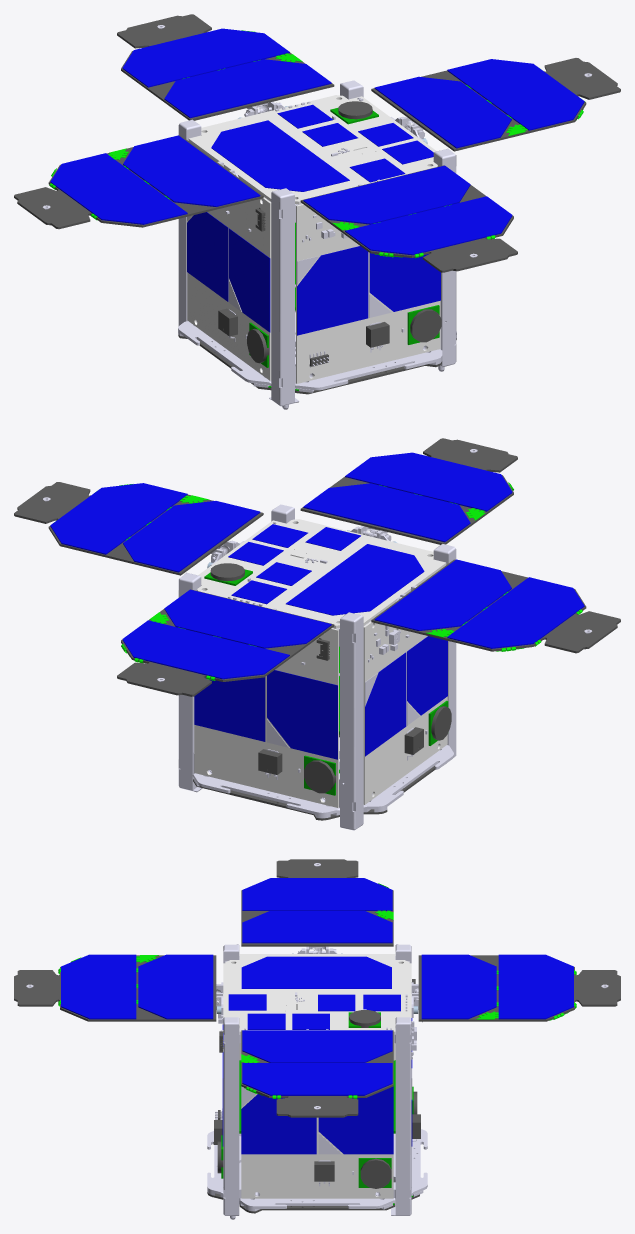
The model's file is cubesat.glb.
3 renders of one model, top to bottom at view 1: azimuth 30°, elevation 25°; view 2: azimuth 150°, elevation 25°; view 3: azimuth 270°, elevation 25°, orthographic. The views are drawn at different scales.
Visible parts, largest first — view 1: HybridBody.1 (×17), 1\MANIFOLD_SOLID_BREP #314 (×2), 133\126\125\MANIFOLD_SOLID_BREP #14078 (×2), 1\Hauptkörper, 133\132\131\MANIFOLD_SOLID_BREP #15116 (×2), 57\56\55\MANIFOLD_SOLID_BREP #7348, 15\12\11\MANIFOLD_SOLID_BREP #2806 (×2), 65\64\61\MANIFOLD_SOLID_BREP #8372, 67\66\58\MANIFOLD_SOLID_BREP #7977, 63\62\61\MANIFOLD_SOLID_BREP #8372, 60\59\58\MANIFOLD_SOLID_BREP #7977, 69\68\58\MANIFOLD_SOLID_BREP #7977; view 2: HybridBody.1 (×17), 1\MANIFOLD_SOLID_BREP #314 (×2), 133\132\131\MANIFOLD_SOLID_BREP #15116 (×2), 1\Hauptkörper, 133\126\125\MANIFOLD_SOLID_BREP #14078 (×2), 57\56\55\MANIFOLD_SOLID_BREP #7348, 15\12\11\MANIFOLD_SOLID_BREP #2806 (×2), 63\62\61\MANIFOLD_SOLID_BREP #8372, 65\64\61\MANIFOLD_SOLID_BREP #8372, 67\66\58\MANIFOLD_SOLID_BREP #7977, 60\59\58\MANIFOLD_SOLID_BREP #7977, 69\68\58\MANIFOLD_SOLID_BREP #7977 (+1 smaller); view 3: HybridBody.1 (×16), 1\MANIFOLD_SOLID_BREP #314, 1\Hauptkörper, 57\56\55\MANIFOLD_SOLID_BREP #7348, 133\126\125\MANIFOLD_SOLID_BREP #14078, 133\132\131\MANIFOLD_SOLID_BREP #15116, 15\12\11\MANIFOLD_SOLID_BREP #2806, 63\62\61\MANIFOLD_SOLID_BREP #8372, 65\64\61\MANIFOLD_SOLID_BREP #8372, 60\59\58\MANIFOLD_SOLID_BREP #7977, 69\68\58\MANIFOLD_SOLID_BREP #7977, 67\66\58\MANIFOLD_SOLID_BREP #7977 (+1 smaller).
Part boxes in pixels (<box>): HybridBody.1 (×17): <box>14,14,620,406</box>; 1\MANIFOLD_SOLID_BREP #314 (×2): <box>187,197,440,383</box>; 133\126\125\MANIFOLD_SOLID_BREP #14078 (×2): <box>187,212,368,335</box>; 1\Hauptkörper: <box>188,95,437,204</box>; 133\132\131\MANIFOLD_SOLID_BREP #15116 (×2): <box>229,228,440,332</box>; 57\56\55\MANIFOLD_SOLID_BREP #7348: <box>211,120,349,191</box>; 15\12\11\MANIFOLD_SOLID_BREP #2806 (×2): <box>247,309,441,363</box>; 65\64\61\MANIFOLD_SOLID_BREP #8372: <box>277,104,333,128</box>; 67\66\58\MANIFOLD_SOLID_BREP #7977: <box>358,123,413,146</box>; 63\62\61\MANIFOLD_SOLID_BREP #8372: <box>302,123,357,146</box>; 60\59\58\MANIFOLD_SOLID_BREP #7977: <box>349,158,405,182</box>; 69\68\58\MANIFOLD_SOLID_BREP #7977: <box>382,140,433,164</box>; HybridBody.1 (×17): <box>14,438,620,830</box>; 1\MANIFOLD_SOLID_BREP #314 (×2): <box>194,621,447,807</box>; 133\132\131\MANIFOLD_SOLID_BREP #15116 (×2): <box>267,636,447,759</box>; 1\Hauptkörper: <box>197,519,446,628</box>; 133\126\125\MANIFOLD_SOLID_BREP #14078 (×2): <box>194,652,406,756</box>; 57\56\55\MANIFOLD_SOLID_BREP #7348: <box>286,544,424,615</box>; 15\12\11\MANIFOLD_SOLID_BREP #2806 (×2): <box>304,706,451,793</box>; 63\62\61\MANIFOLD_SOLID_BREP #8372: <box>256,562,311,585</box>; 65\64\61\MANIFOLD_SOLID_BREP #8372: <box>231,580,286,604</box>; 67\66\58\MANIFOLD_SOLID_BREP #7977: <box>228,542,283,565</box>; 60\59\58\MANIFOLD_SOLID_BREP #7977: <box>305,527,360,550</box>; 69\68\58\MANIFOLD_SOLID_BREP #7977: <box>252,524,307,547</box>; HybridBody.1 (×16): <box>14,859,620,1215</box>; 1\MANIFOLD_SOLID_BREP #314: <box>241,1093,393,1198</box>; 1\Hauptkörper: <box>225,954,409,1034</box>; 57\56\55\MANIFOLD_SOLID_BREP #7348: <box>241,956,391,988</box>; 133\126\125\MANIFOLD_SOLID_BREP #14078: <box>241,1094,316,1154</box>; 133\132\131\MANIFOLD_SOLID_BREP #15116: <box>318,1086,393,1154</box>; 15\12\11\MANIFOLD_SOLID_BREP #2806: <box>360,1158,391,1188</box>; 63\62\61\MANIFOLD_SOLID_BREP #8372: <box>318,994,355,1011</box>; 65\64\61\MANIFOLD_SOLID_BREP #8372: <box>363,994,400,1011</box>; 60\59\58\MANIFOLD_SOLID_BREP #7977: <box>228,994,266,1010</box>; 69\68\58\MANIFOLD_SOLID_BREP #7977: <box>247,1013,285,1029</box>; 67\66\58\MANIFOLD_SOLID_BREP #7977: <box>292,1013,329,1029</box>.
Bounding box in the file's own units: 161 × 58.97 × 161.
